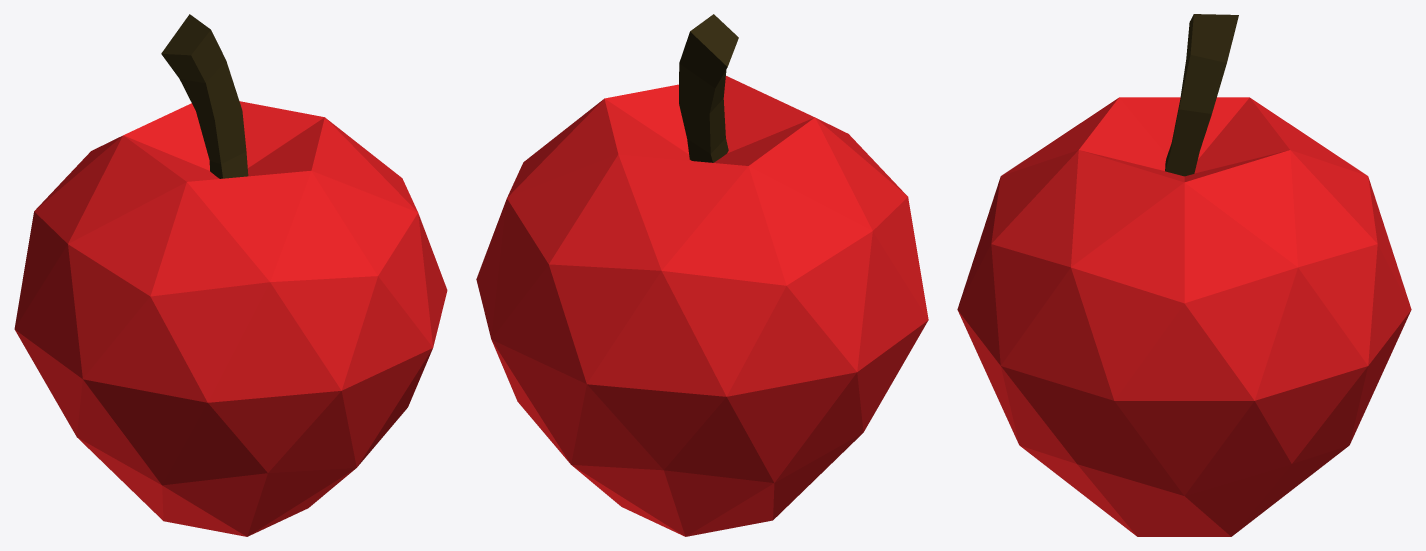
File: Apple1.fbx
The picture shows the model from 3 angles, left to right: view 1: azimuth 30°, elevation 25°; view 2: azimuth 150°, elevation 25°; view 3: azimuth 270°, elevation 25°; orthographic projection. The views are drawn at different scales.
Visible parts, largest first — view 1: Icosphere; view 2: Icosphere; view 3: Icosphere.
Boxes of the visible parts, x1,y1,x2,y2 form: Icosphere: (14,14,447,536); Icosphere: (476,14,928,536); Icosphere: (957,14,1411,536).
Size of the model in its own units: 190 by 237 by 200.
